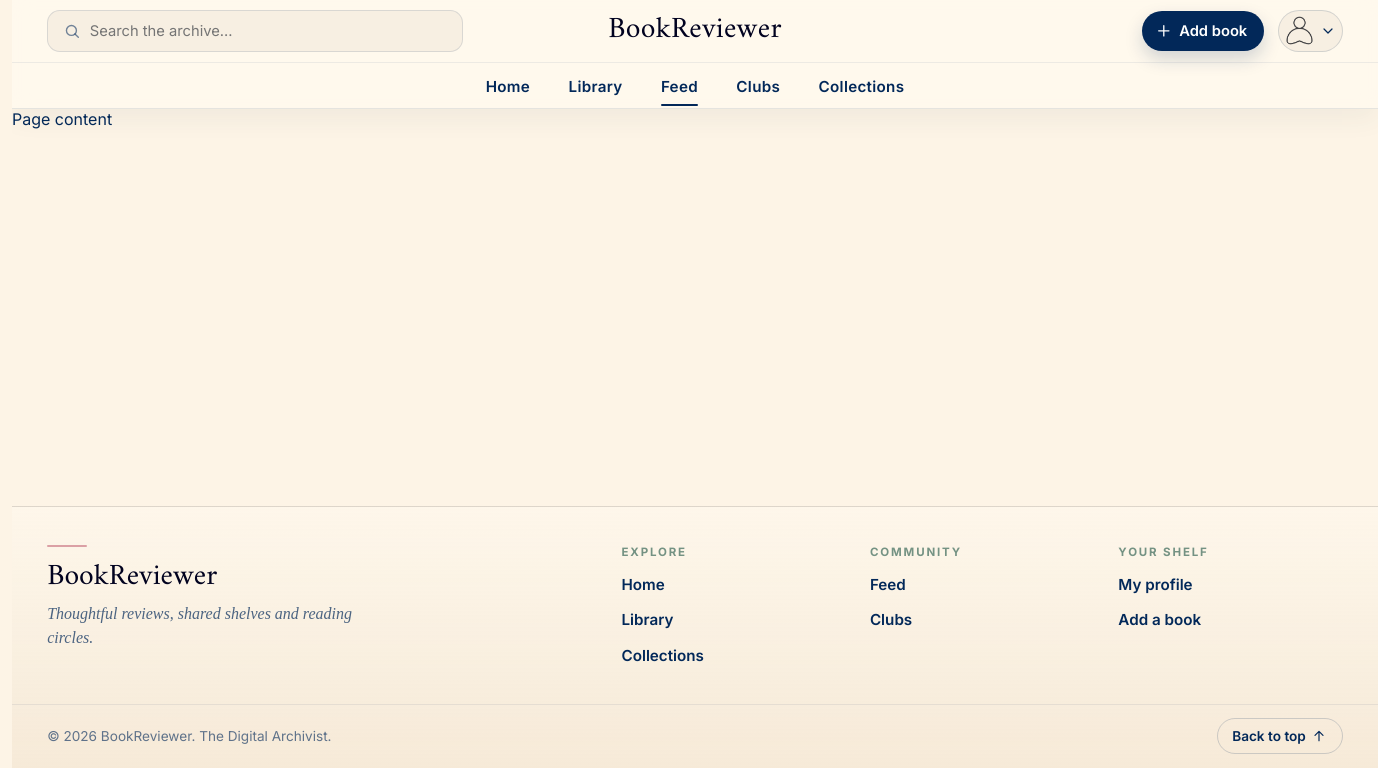
it: AppChrome account menu › closes on Escape and gives focus back to the avatar button
Click the button named "Account menu".
click(1311, 31)  # box 1278,10 -> 1343,52
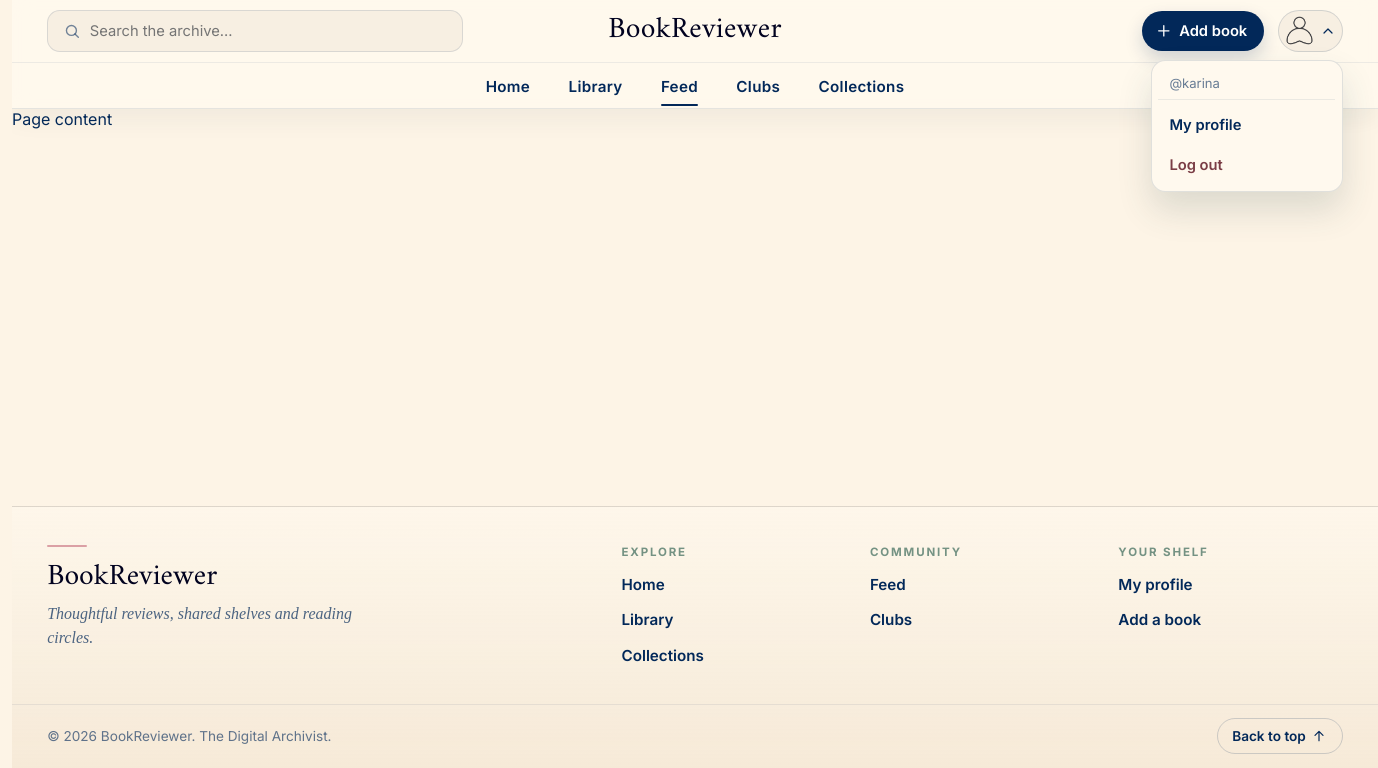
Press Escape
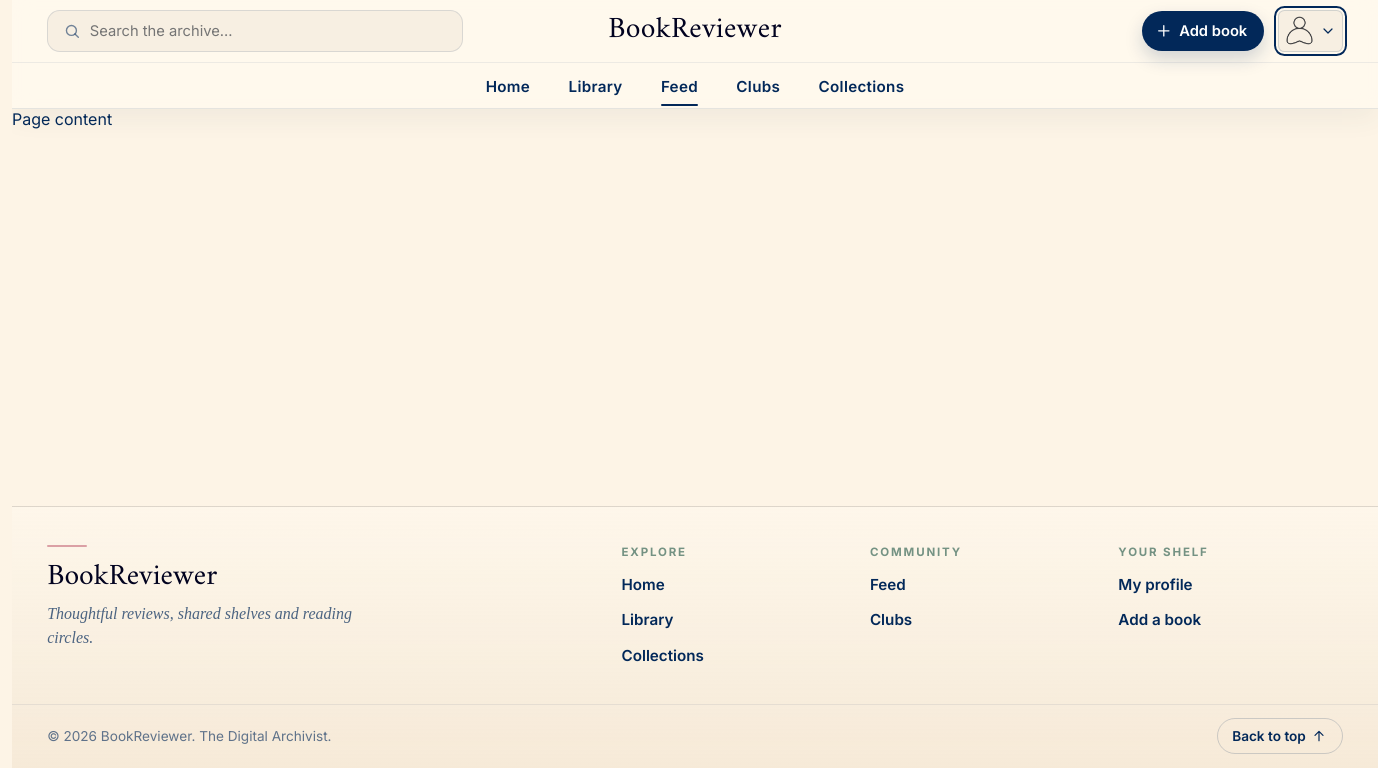
Now the button named "Account menu" is collapsed, box 1278,10 -> 1343,52
